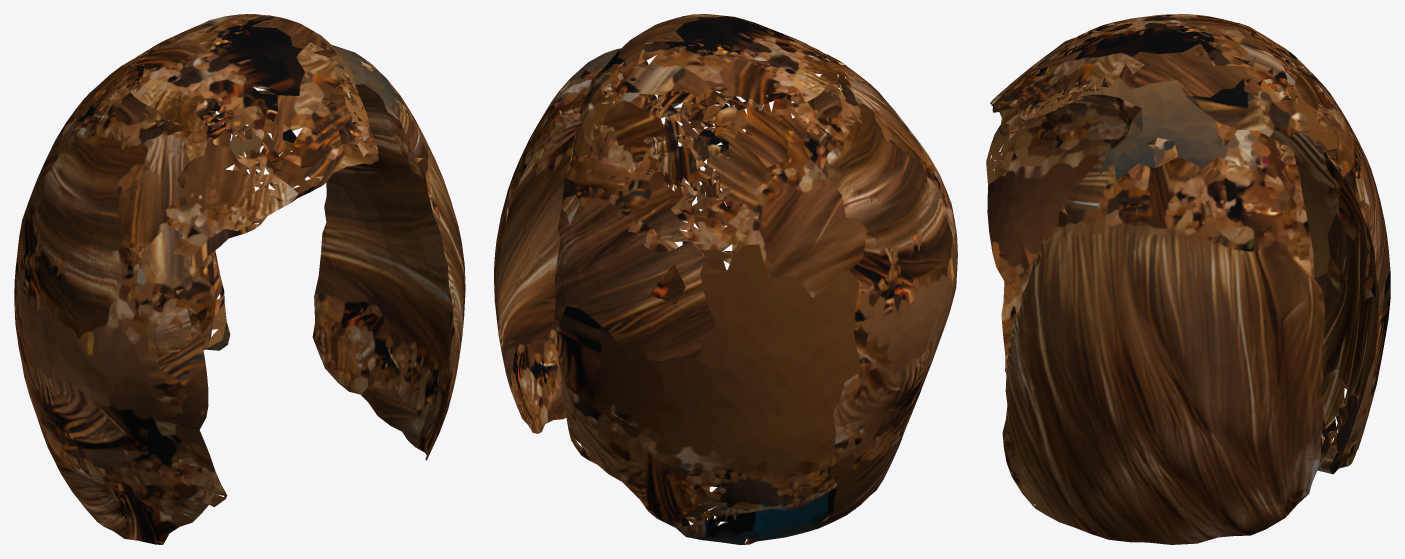
Rendered from peruca-lado.glb.
The picture shows the model from 3 angles, left to right: view 1: azimuth 30°, elevation 25°; view 2: azimuth 150°, elevation 25°; view 3: azimuth 270°, elevation 25°; orthographic projection. The views are drawn at different scales.
Visible parts, largest first — view 1: geometry_0; view 2: geometry_0; view 3: geometry_0.
Part boxes in pixels (bbox=[...]): geometry_0: bbox=[14, 14, 465, 544]; geometry_0: bbox=[494, 14, 957, 544]; geometry_0: bbox=[986, 14, 1390, 544].
Size of the model in its own units: 1.78 by 1.99 by 1.53.
Materials: 1 (1 with a texture image).
